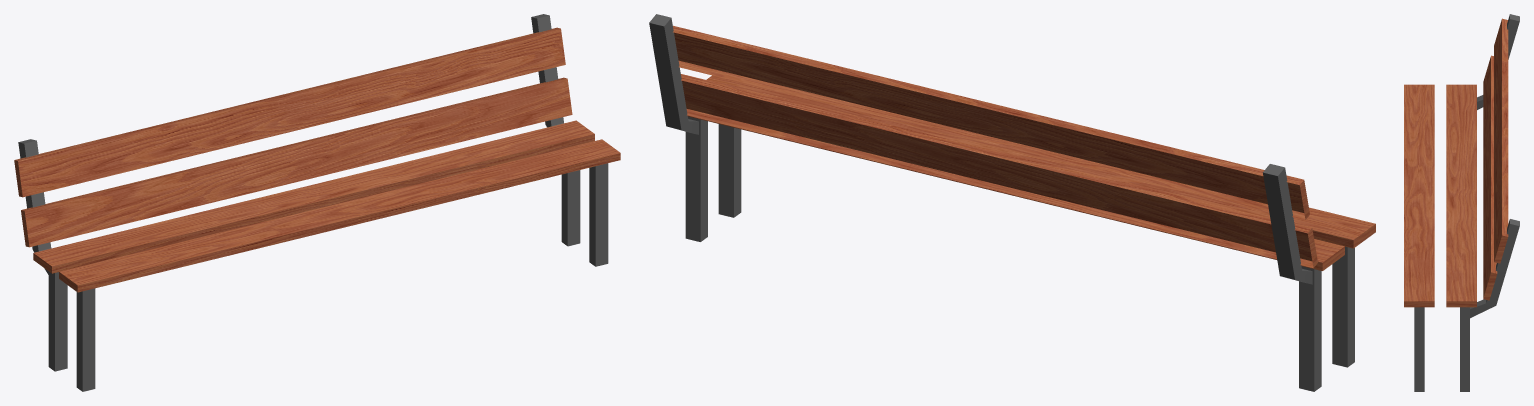
The model's file is bench.fbx.
3 renders of one model, left to right at view 1: azimuth 30°, elevation 25°; view 2: azimuth 150°, elevation 25°; view 3: azimuth 270°, elevation 25°, orthographic. The views are drawn at different scales.
Parts seen in each view (by area): view 1: Bench; view 2: Bench; view 3: Bench.
Part boxes in pixels (x1,y1,x2,y2): Bench: (14, 14, 620, 391); Bench: (649, 14, 1375, 391); Bench: (1404, 14, 1519, 391).
Size of the model in its own units: 102 by 37.03 by 23.09.
